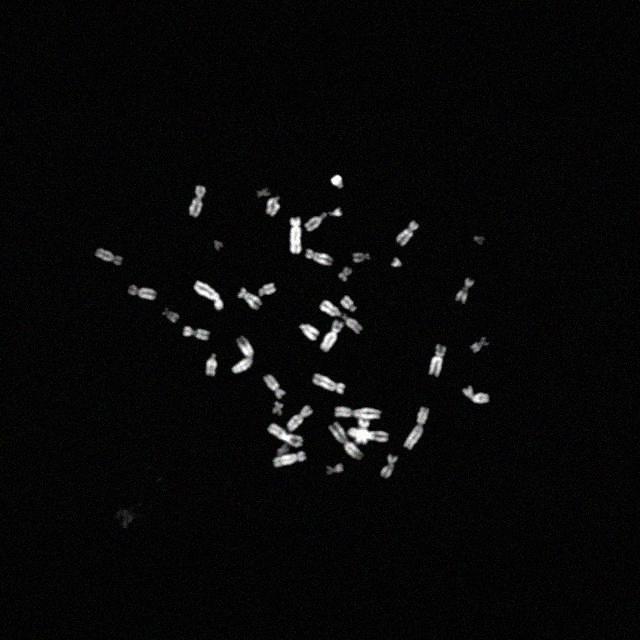chromosome: (320, 300, 362, 334), (328, 422, 364, 460), (404, 406, 428, 448), (305, 206, 343, 232), (194, 280, 224, 312), (230, 336, 253, 374), (267, 424, 303, 446), (312, 373, 346, 395), (322, 320, 344, 352), (334, 406, 382, 420), (237, 286, 263, 310), (286, 406, 312, 430), (396, 220, 418, 248), (428, 344, 446, 378), (188, 185, 206, 218), (305, 247, 333, 267), (462, 384, 490, 404), (348, 428, 388, 442), (273, 451, 307, 467), (95, 248, 124, 266), (454, 278, 474, 304), (263, 376, 285, 398), (290, 217, 302, 255), (128, 284, 156, 300), (298, 322, 320, 342), (380, 454, 398, 478), (183, 325, 209, 341), (356, 418, 370, 444), (266, 197, 282, 217), (160, 306, 178, 322), (471, 338, 489, 354), (352, 250, 372, 264), (206, 354, 218, 376), (341, 296, 357, 312), (258, 282, 276, 296), (326, 462, 342, 476), (338, 267, 352, 281), (332, 175, 344, 191), (272, 401, 284, 415), (390, 256, 402, 268), (257, 188, 271, 198), (212, 238, 222, 252), (474, 236, 484, 246)
